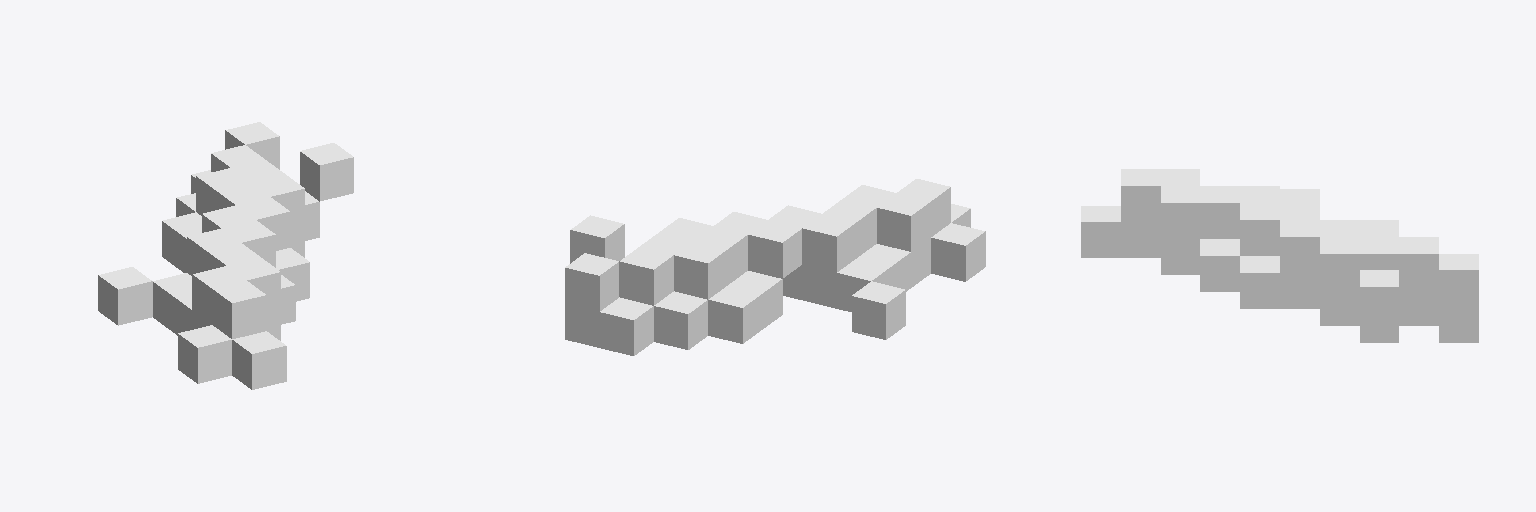
Rendered from wood_scnd.obj.
3 renders of one model, left to right at view 1: azimuth 30°, elevation 25°; view 2: azimuth 150°, elevation 25°; view 3: azimuth 270°, elevation 25°, orthographic.
Parts seen in each view (by area): view 1: wood_scnd; view 2: wood_scnd; view 3: wood_scnd.
Boxes of the visible parts, x1,y1,x2,y2 form: wood_scnd: [98, 122, 353, 389]; wood_scnd: [565, 179, 985, 355]; wood_scnd: [1081, 169, 1478, 342].
Bounding box in the file's own units: 8 × 2 × 10.